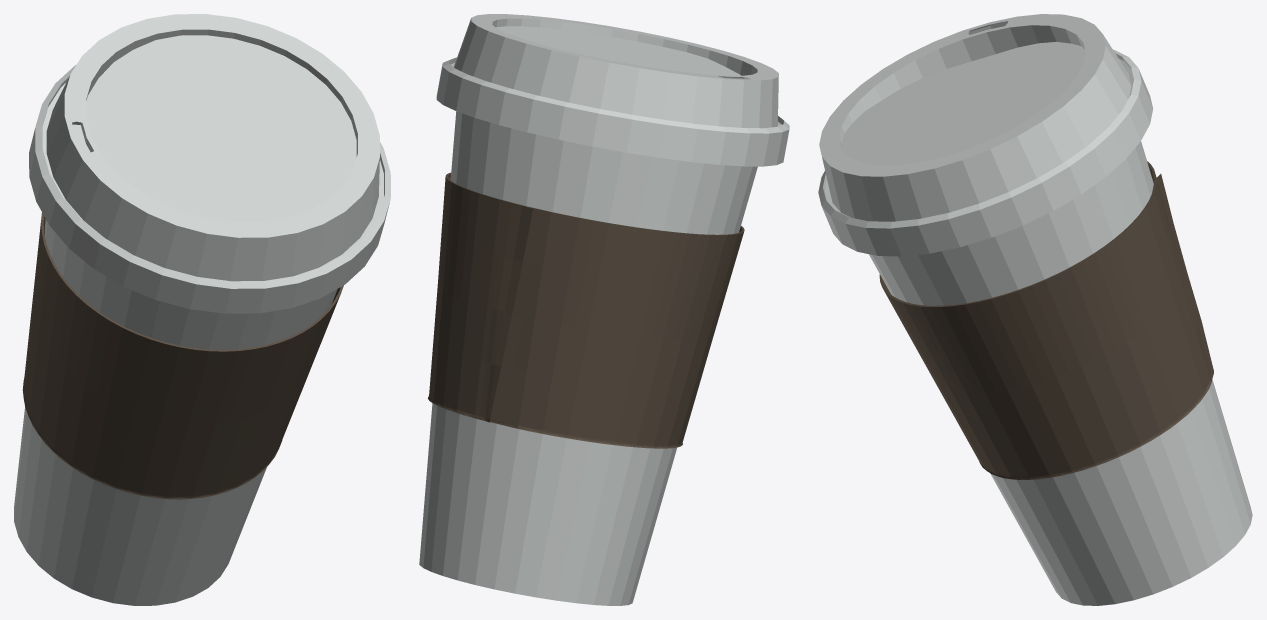
Rendered from coffeeCup8-9-20.gltf.
3 views of the same model, side by side, from view 1: azimuth 30°, elevation 25°; view 2: azimuth 150°, elevation 25°; view 3: azimuth 270°, elevation 25° (orthographic). The views are drawn at different scales.
Visible parts, largest first — view 1: Circle.001, Circle.002, Circle.003; view 2: Circle.002, Circle.003, Circle.001; view 3: Circle.001, Circle.002, Circle.003.
Boxes of the visible parts, box(x1,y1,x2,y2) form: Circle.001: box(29, 14, 390, 313); Circle.002: box(22, 212, 343, 499); Circle.003: box(14, 219, 337, 605); Circle.002: box(428, 172, 744, 448); Circle.003: box(419, 111, 757, 605); Circle.001: box(436, 14, 789, 166); Circle.001: box(818, 14, 1152, 256); Circle.002: box(879, 161, 1213, 479); Circle.003: box(869, 141, 1252, 605).
Size of the model in its own units: 130 by 223 by 164.
